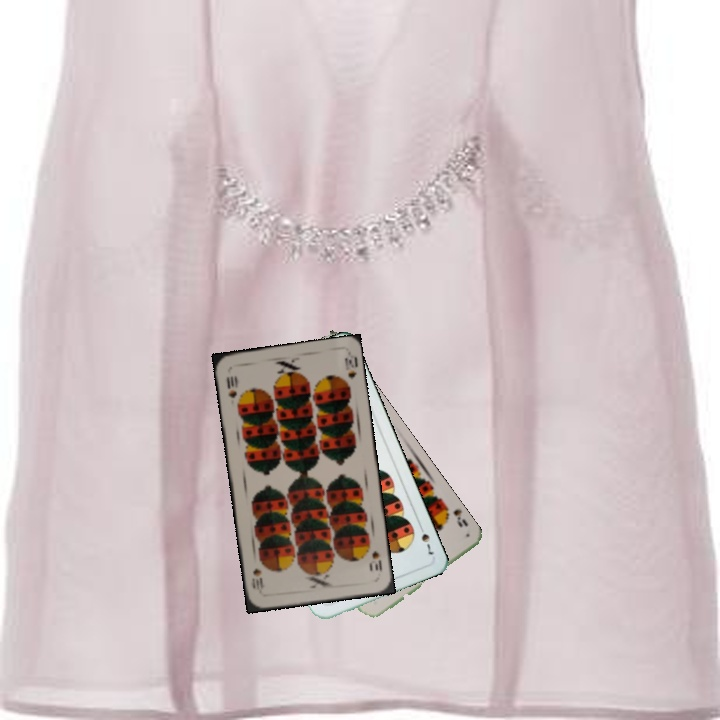S10: (222, 372, 240, 401), (368, 547, 385, 575)
S7: (415, 520, 437, 557)
S9: (440, 500, 471, 530)
